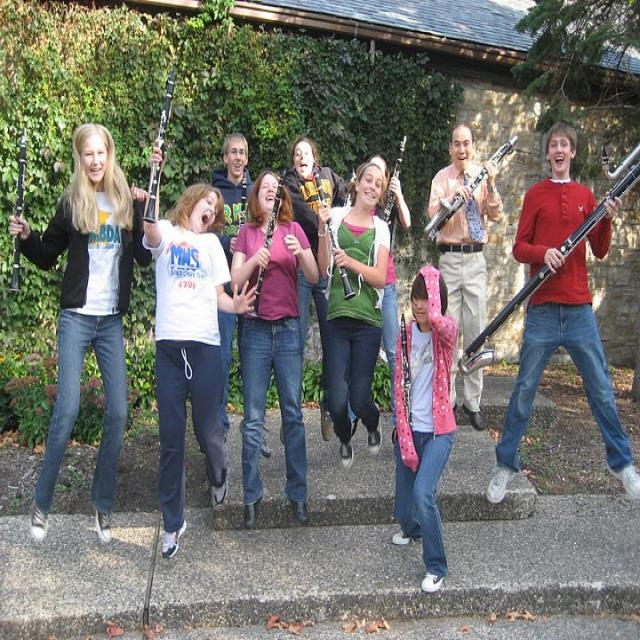clarinet: (428, 136, 522, 246), (136, 66, 180, 225), (249, 164, 288, 319), (312, 166, 356, 303), (4, 123, 36, 304), (379, 134, 409, 227), (397, 311, 412, 433), (238, 166, 254, 227)
